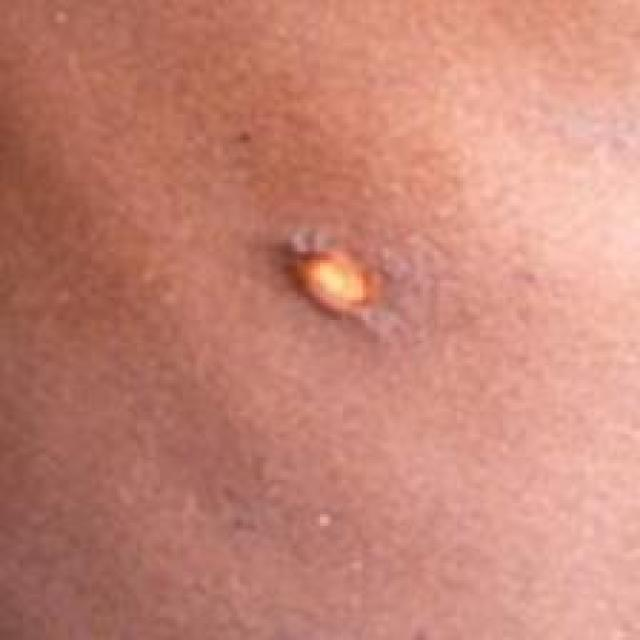monkeypox: (167, 20, 602, 578)
